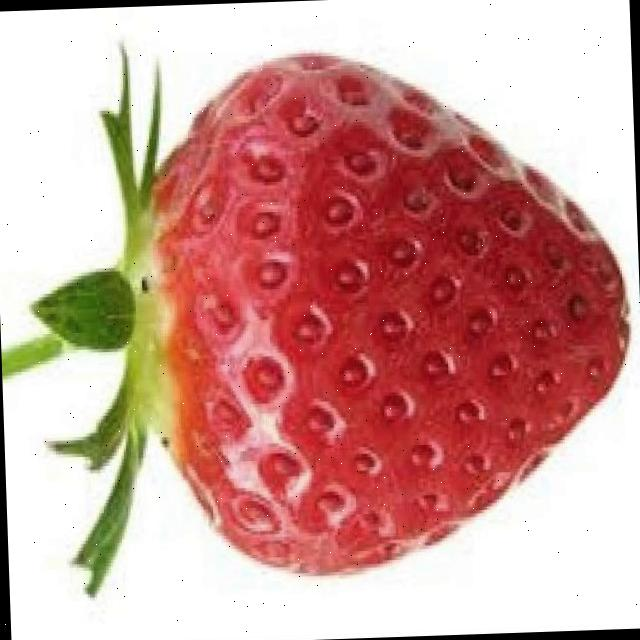strawberry: (132, 44, 640, 583)
